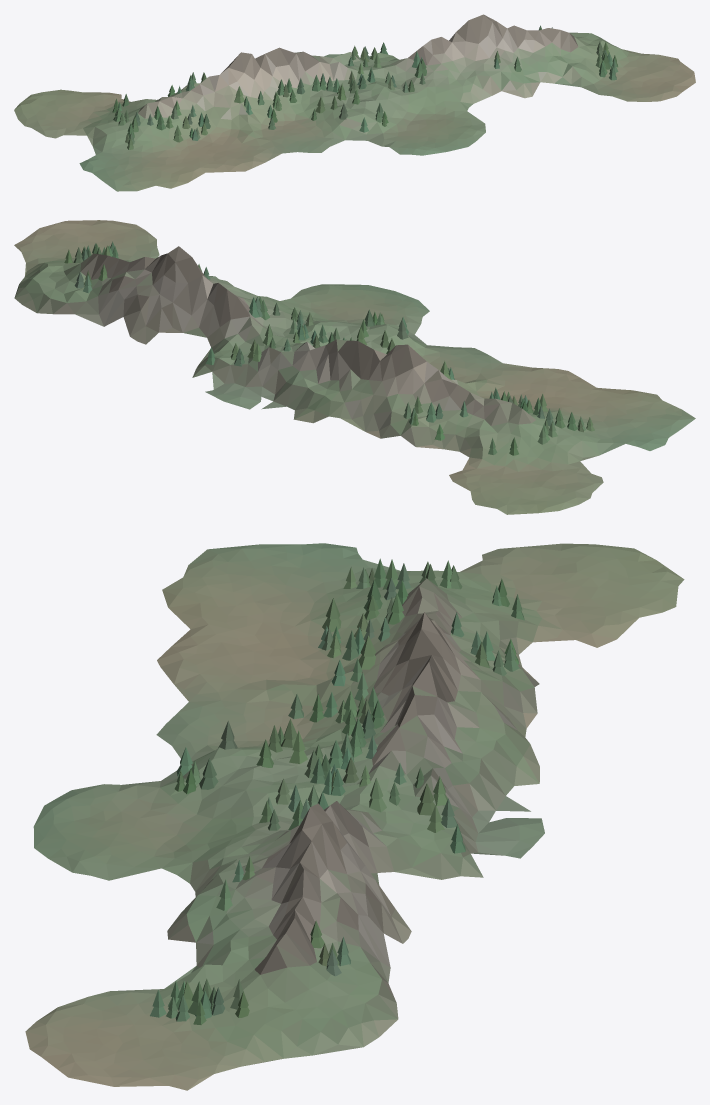
The model's file is range_daba.glb.
3 renders of one model, top to bottom at view 1: azimuth 30°, elevation 25°; view 2: azimuth 150°, elevation 25°; view 3: azimuth 270°, elevation 25°, orthographic. The views are drawn at different scales.
Parts seen in each view (by area): view 1: range_daba, trees_daba; view 2: range_daba, trees_daba; view 3: range_daba, trees_daba.
Part boxes in pixels (x1,y1,x2,y2): range_daba: (14, 14, 695, 191); trees_daba: (112, 25, 618, 149); range_daba: (14, 220, 695, 514); trees_daba: (64, 241, 594, 455); range_daba: (25, 543, 684, 1090); trees_daba: (150, 558, 524, 1024).
Bounding box in the file's own units: 249 × 26.56 × 127.
